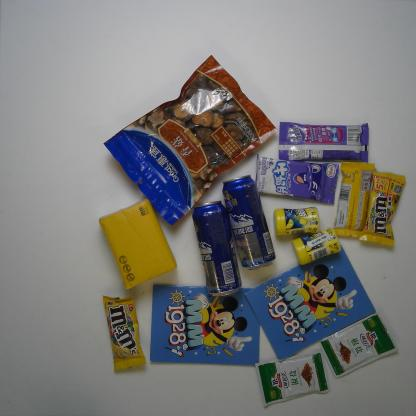Alcohol: (221, 174, 277, 272), (191, 200, 242, 298)
Candy: (254, 152, 340, 206), (277, 121, 369, 164)
Chocolate: (358, 168, 406, 248), (101, 295, 147, 372), (332, 160, 375, 238)
Dried Food: (102, 54, 278, 228)
Gum: (291, 226, 342, 266), (272, 206, 321, 237)
Seasoner: (318, 312, 399, 380), (254, 349, 330, 408)
Stationery: (244, 243, 377, 363), (149, 284, 261, 366)
Tissue: (98, 198, 178, 291)
